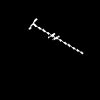treble_crochet: (29, 19, 82, 53)
